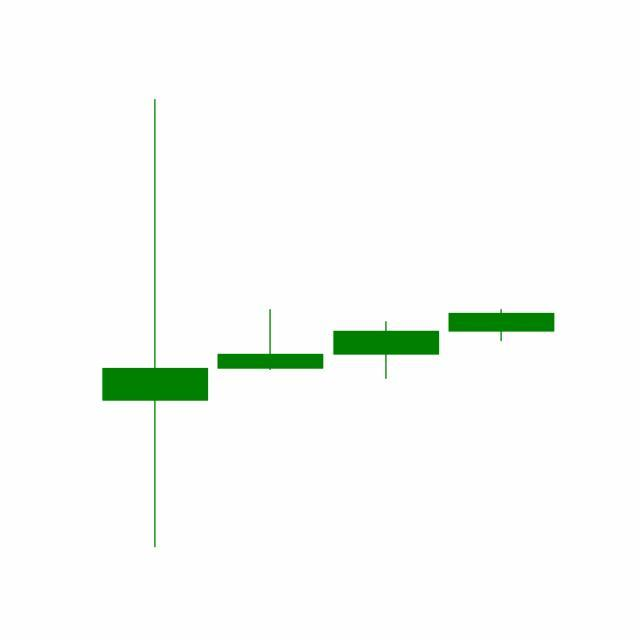Hammer: (329, 321, 445, 381)
